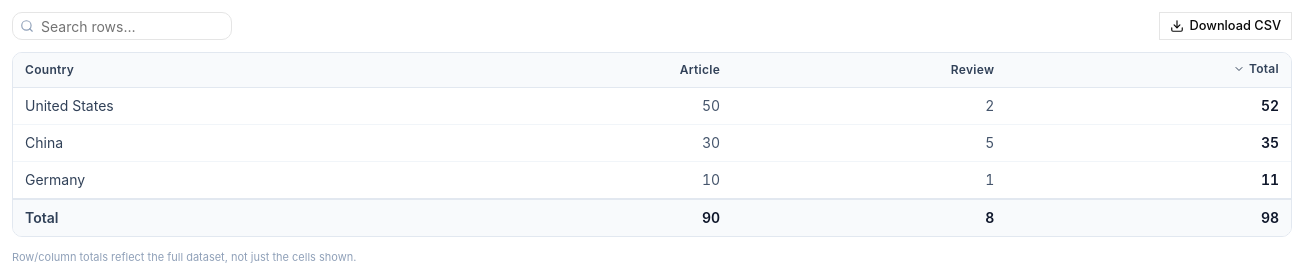
Test: PivotTable — поиск › фильтрует строки по подстроке в метке (регистронезависимо)
Step 1. Type "chi" into the field with placeholder "Search rows…" → {"x": 122, "y": 26}, box x1=12 y1=12 x2=232 y2=40
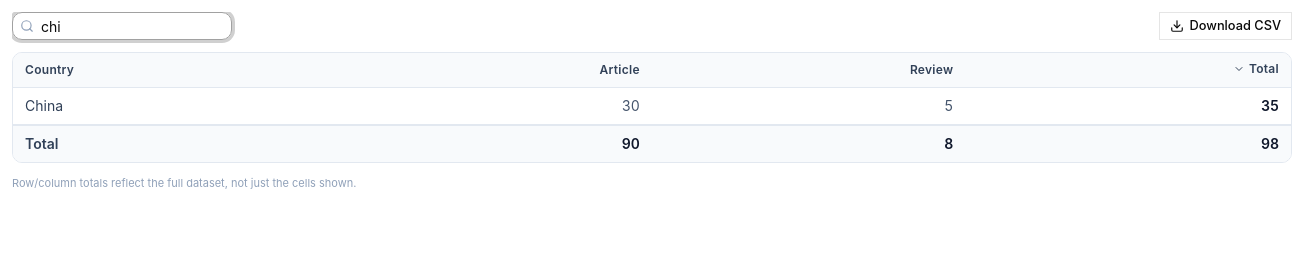
Expected: the text "China" is shown, x1=13 y1=88 x2=353 y2=125
Expected: the text "Germany" is gone
Expected: the text "United States" is gone
